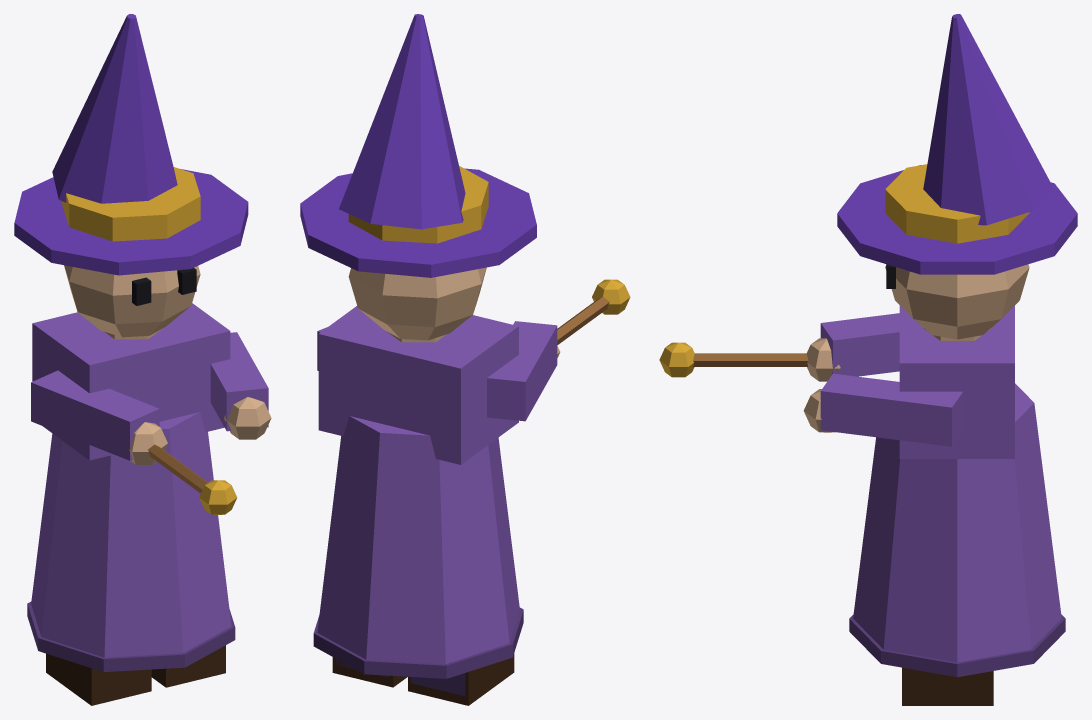
Rendered from u_apprentice.fbx.
3 renders of one model, left to right at view 1: azimuth 30°, elevation 25°; view 2: azimuth 150°, elevation 25°; view 3: azimuth 270°, elevation 25°, orthographic.
Visible parts, largest first — view 1: u_apprentice_Body, u_apprentice_LegR, u_apprentice_LegL; view 2: u_apprentice_Body, u_apprentice_LegR, u_apprentice_LegL; view 3: u_apprentice_Body, u_apprentice_LegL.
Part boxes in pixels (box(x1,y1,x2,y2)): u_apprentice_Body: box(14, 14, 271, 672); u_apprentice_LegR: box(46, 653, 151, 705); u_apprentice_LegL: box(151, 645, 225, 687); u_apprentice_Body: box(300, 14, 630, 678); u_apprentice_LegR: box(408, 653, 514, 705); u_apprentice_LegL: box(332, 657, 407, 687); u_apprentice_Body: box(659, 14, 1077, 677); u_apprentice_LegL: box(902, 667, 993, 705).
Bounding box in the file's own units: 0.4977 × 1.51 × 0.87.
